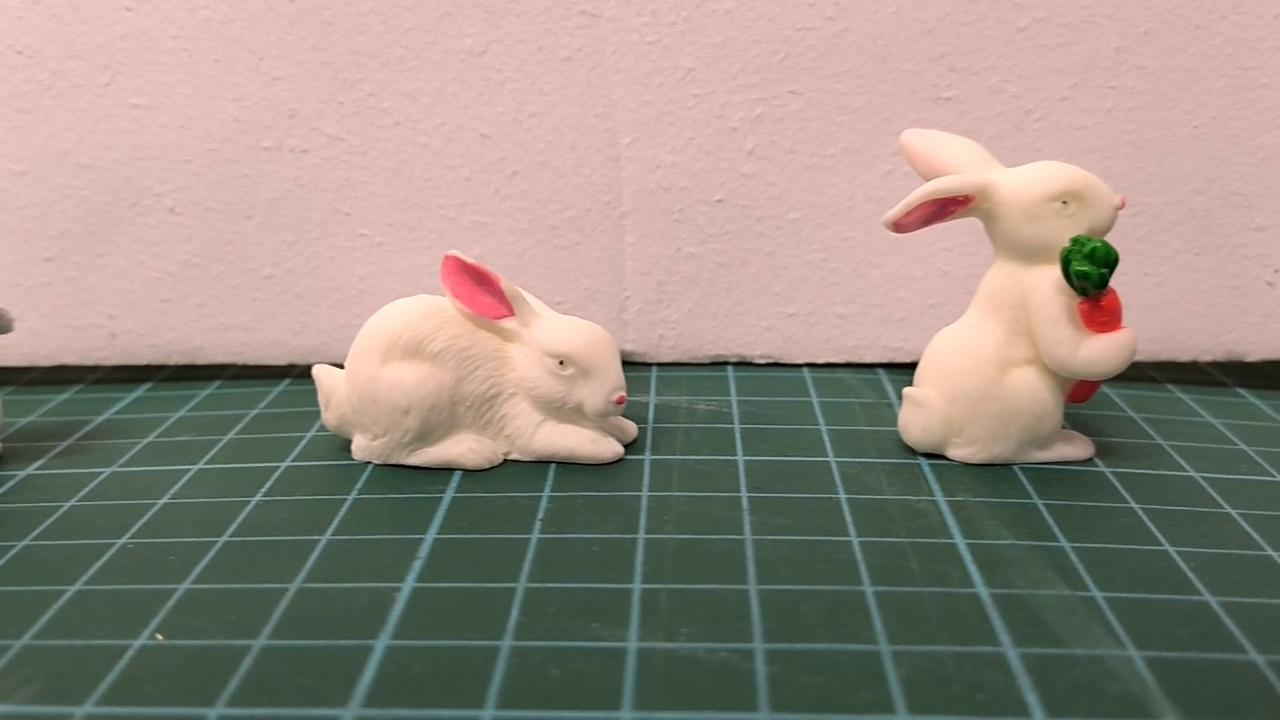pet: (881, 128, 1139, 467), (308, 251, 643, 470)
